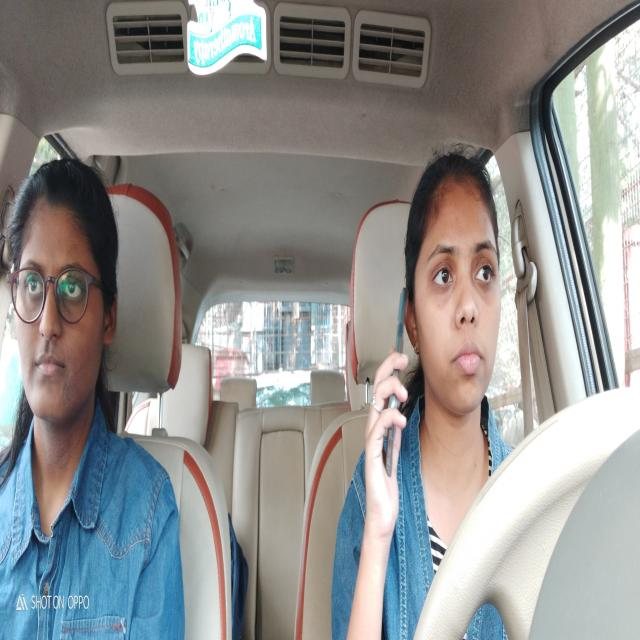mobile: (382, 278, 416, 477)
person: (3, 136, 126, 447), (406, 134, 511, 426)
